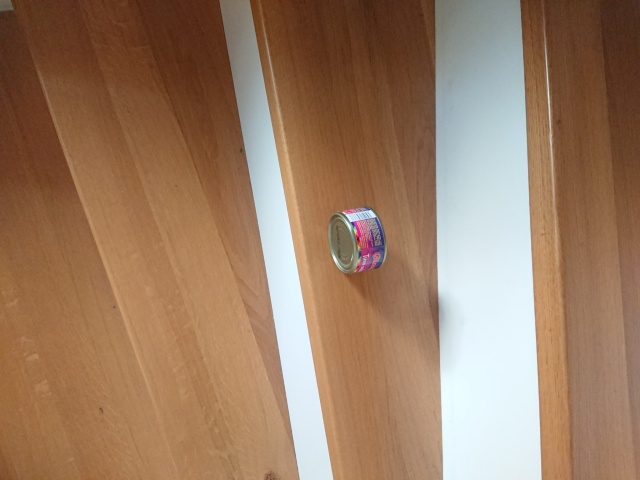Giana Tuna Salad Mexico 185g: (326, 203, 390, 278)
